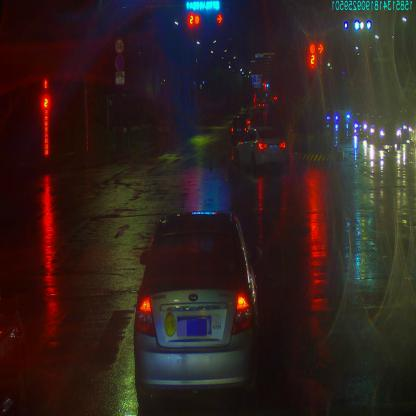traffic-light: (186, 2, 221, 10), (214, 14, 224, 25), (189, 16, 198, 25)
